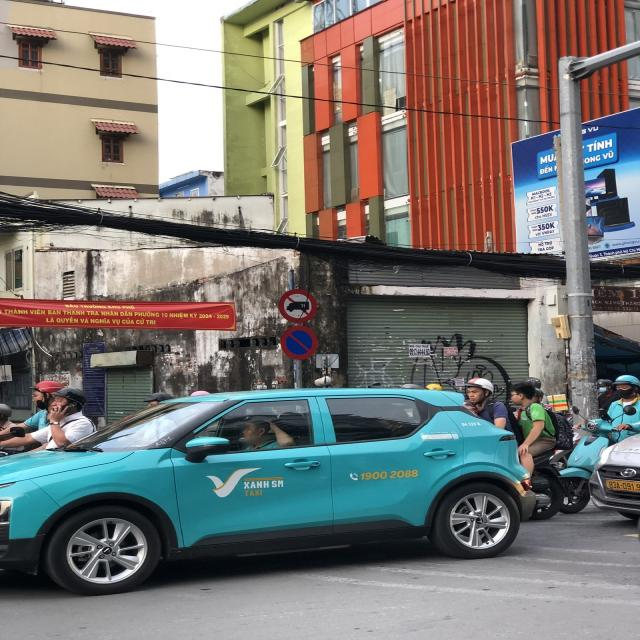Bien bao cam do xe: (277, 324, 320, 360)
Bien bao cam xe oto tai: (277, 286, 317, 324)
